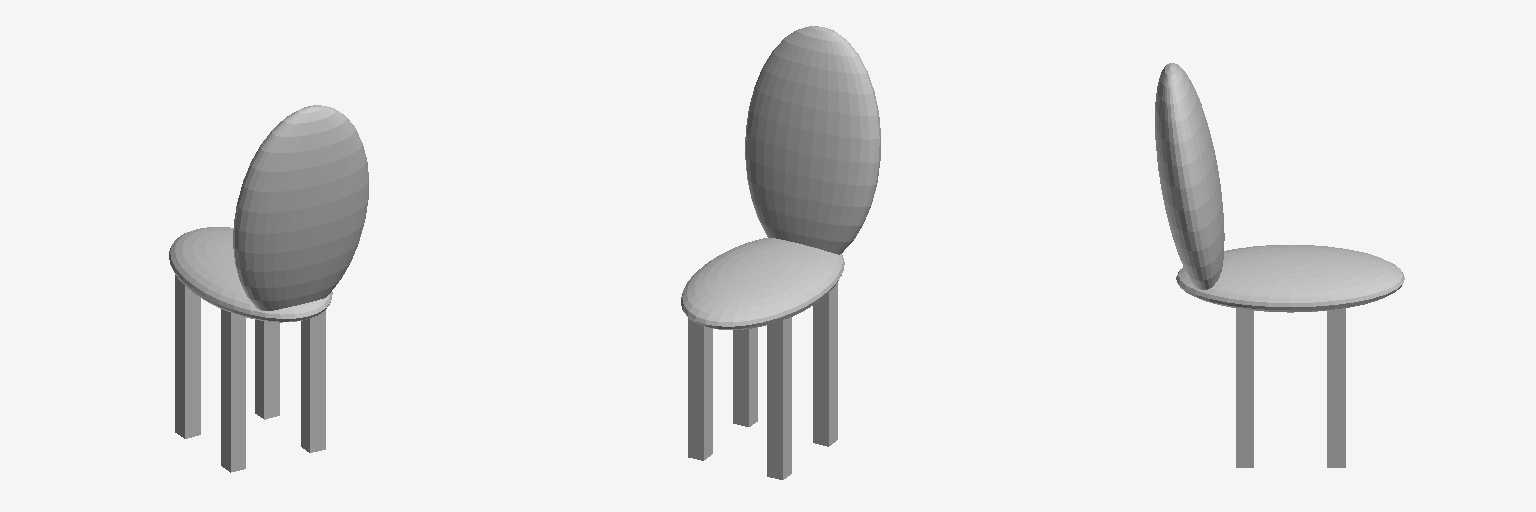
The model's file is chair.obj.
3 renders of one model, left to right at view 1: azimuth 30°, elevation 25°; view 2: azimuth 150°, elevation 25°; view 3: azimuth 270°, elevation 25°, orthographic.
Visible parts, largest first — view 1: Sphere.001, Sphere, Cube.001, Cube.003, Cube, Cube.002; view 2: Sphere.001, Sphere, Cube.003, Cube.001, Cube.002, Cube; view 3: Sphere, Sphere.001, Cube.002, Cube.
Part boxes in pixels (x1,y1,x2,y2): Sphere.001: (233,105,368,310); Sphere: (169,227,332,322); Cube.001: (221,309,245,472); Cube.003: (175,275,200,438); Cube: (301,310,325,452); Cube.002: (255,320,279,419); Sphere.001: (745,26,880,254); Sphere: (681,238,844,329); Cube.003: (767,317,791,479); Cube.001: (813,283,837,446); Cube.002: (688,318,712,460); Cube: (733,327,757,426); Sphere: (1176,245,1404,312); Sphere.001: (1155,63,1224,289); Cube.002: (1327,308,1345,467); Cube: (1236,308,1253,467).
Bounding box in the file's own units: 1.66 × 4.54 × 2.73.